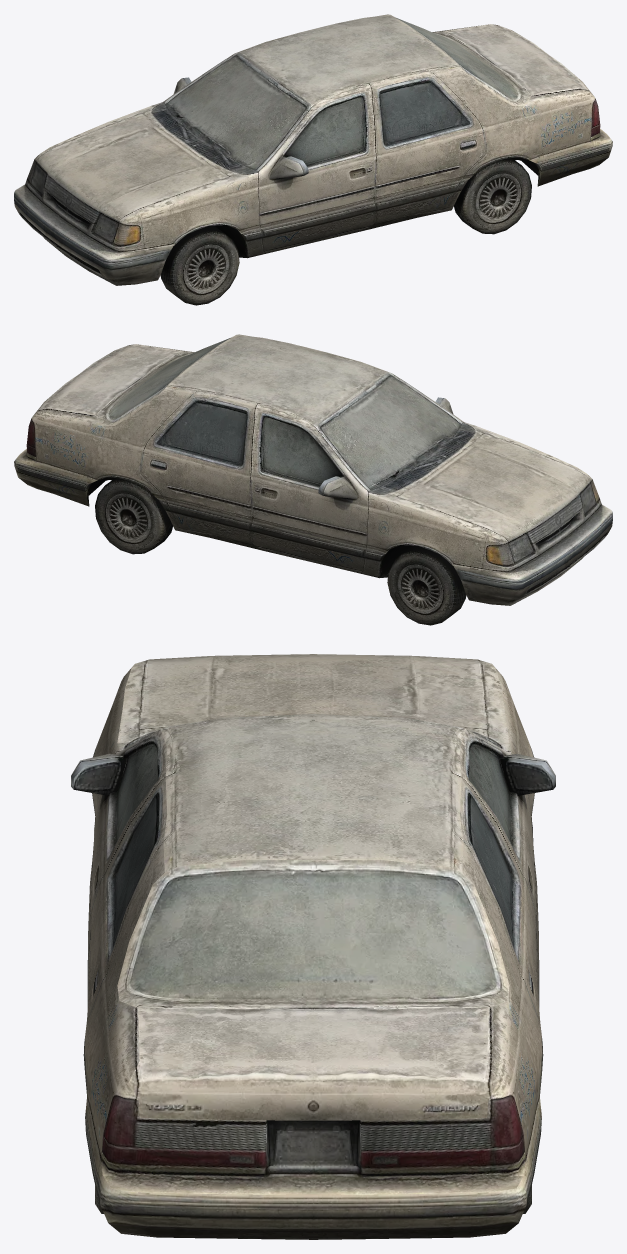
The model's file is rusty.glb.
3 views of the same model, one above another, from view 1: azimuth 30°, elevation 25°; view 2: azimuth 150°, elevation 25°; view 3: azimuth 270°, elevation 25° (orthographic). The views are drawn at different scales.
Visible parts, largest first — view 1: topaz001_Material #24_0; view 2: topaz001_Material #24_0; view 3: topaz001_Material #24_0.
Boxes of the visible parts, x1=… form: topaz001_Material #24_0: x1=14, y1=14, x2=612, y2=305; topaz001_Material #24_0: x1=14, y1=334, x2=612, y2=625; topaz001_Material #24_0: x1=71, y1=654, x2=555, y2=1239.
Size of the model in its own units: 2.67 by 0.8387 by 1.09.
1 material, 1 textured.
